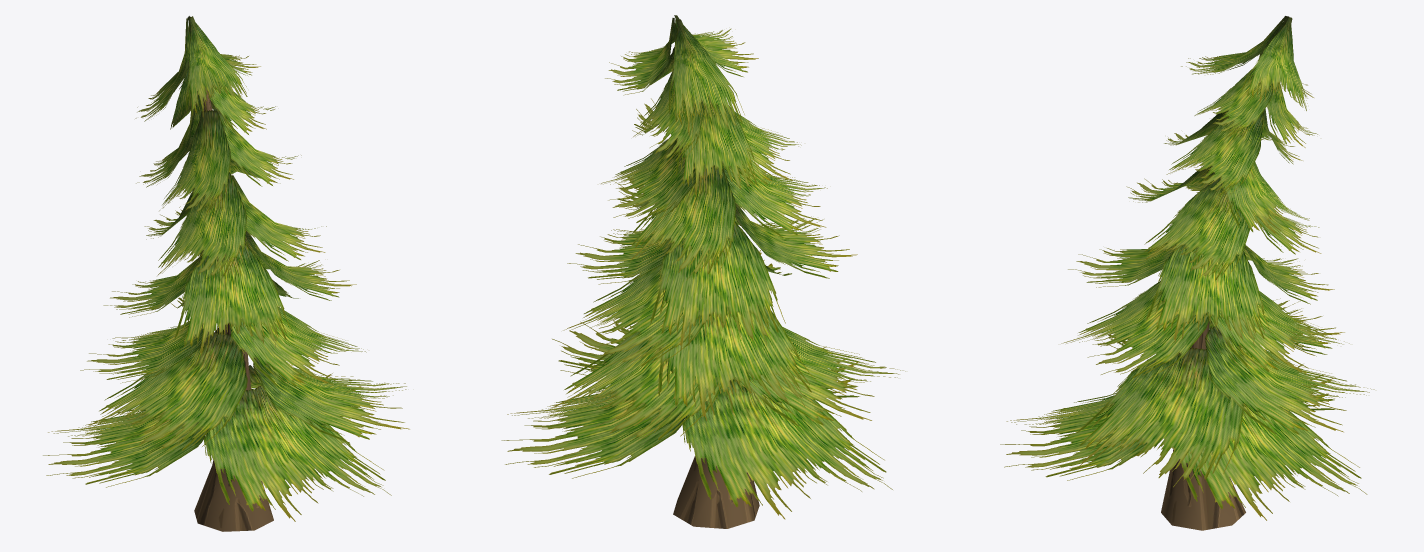
The model's file is Ctn_Pine_01_v02.FBX.
3 views of the same model, side by side, from view 1: azimuth 30°, elevation 25°; view 2: azimuth 150°, elevation 25°; view 3: azimuth 270°, elevation 25° (orthographic). The views are drawn at different scales.
Visible parts, largest first — view 1: Ctn_Pine_01_v02; view 2: Ctn_Pine_01_v02; view 3: Ctn_Pine_01_v02.
Part boxes in pixels (box(x1,y1,x2,y2)): Ctn_Pine_01_v02: box(43, 16, 409, 531); Ctn_Pine_01_v02: box(501, 15, 905, 528); Ctn_Pine_01_v02: box(1000, 16, 1374, 530).
Size of the model in its own units: 5358 by 6120 by 4895.
